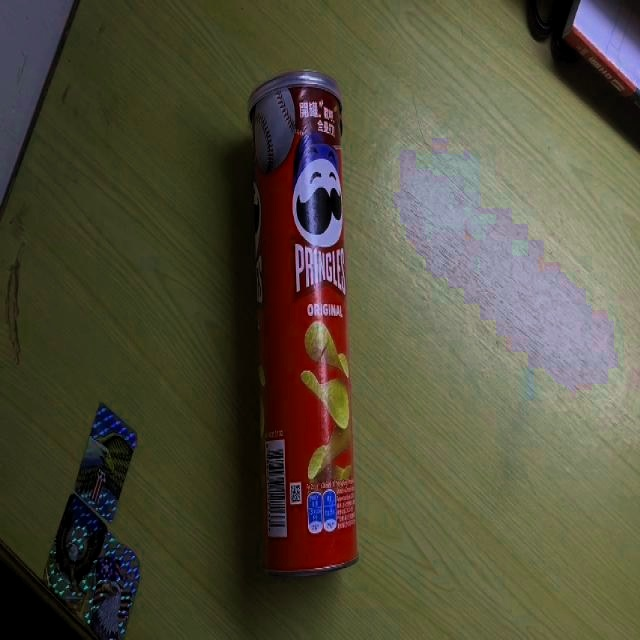Pringles: (246, 67, 360, 580)
